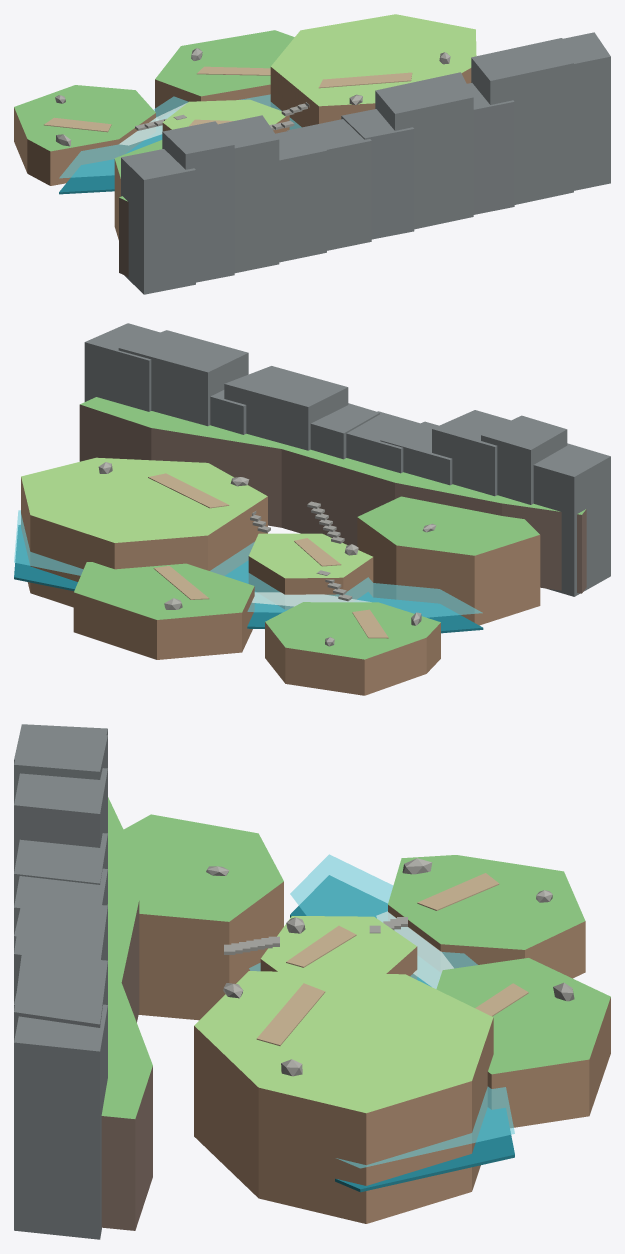
Rendered from redlance_pondside_blender_level_base.glb.
3 renders of one model, top to bottom at view 1: azimuth 30°, elevation 25°; view 2: azimuth 150°, elevation 25°; view 3: azimuth 270°, elevation 25°, orthographic. The views are drawn at different scales.
Visible parts, largest first — view 1: Land_East_Upper_Bank, Back_Cliff_Rock_9, Back_Cliff_Rock_7, Back_Cliff_Rock_1, Land_Start_Lower_Bank, Back_Cliff_Rock_2, Back_Cliff_Rock_3, Land_South_Pond_Island, Back_Cliff_Rock_4, Back_Cliff_Rock_10, Back_Cliff_Rock_5, Back_Cliff_Rock_6 (+10 smaller); view 2: Land_East_Upper_Bank, Land_Back_Ridge_Shelf, Land_Northwest_High_Bank, Land_South_Pond_Island, Land_Start_Lower_Bank, Back_Cliff_Rock_1, Back_Cliff_Rock_9, Back_Cliff_Rock_7, Land_Center_Raised_Step, Pond_Water_Main_Transparent, Back_Cliff_Rock_10, Back_Cliff_Rock_2 (+11 smaller); view 3: Land_East_Upper_Bank, Land_Northwest_High_Bank, Back_Cliff_Rock_10, Land_South_Pond_Island, Land_Start_Lower_Bank, Land_Back_Ridge_Shelf, Pond_Water_Main_Transparent, Back_Cliff_Rock_3, Land_Center_Raised_Step, Back_Cliff_Rock_9, Pond_Bed_Deep, Back_Cliff_Rock_7 (+9 smaller).
Part boxes in pixels (<box>): Land_East_Upper_Bank: <box>270,14,476,129</box>; Back_Cliff_Rock_9: <box>471,38,573,204</box>; Back_Cliff_Rock_7: <box>375,72,473,229</box>; Back_Cliff_Rock_1: <box>121,149,195,294</box>; Land_Start_Lower_Bank: <box>14,85,155,185</box>; Back_Cliff_Rock_2: <box>162,121,234,282</box>; Back_Cliff_Rock_3: <box>218,115,279,273</box>; Land_South_Pond_Island: <box>155,30,294,117</box>; Back_Cliff_Rock_4: <box>275,126,326,262</box>; Back_Cliff_Rock_10: <box>562,32,610,190</box>; Back_Cliff_Rock_5: <box>287,119,371,250</box>; Back_Cliff_Rock_6: <box>341,109,414,239</box>; Land_East_Upper_Bank: <box>21,457,267,607</box>; Land_Back_Ridge_Shelf: <box>79,397,586,593</box>; Land_Northwest_High_Bank: <box>357,496,540,625</box>; Land_South_Pond_Island: <box>73,562,254,659</box>; Land_Start_Lower_Bank: <box>265,602,440,695</box>; Back_Cliff_Rock_1: <box>533,443,610,596</box>; Back_Cliff_Rock_9: <box>118,330,248,426</box>; Back_Cliff_Rock_7: <box>224,366,348,450</box>; Land_Center_Raised_Step: <box>248,533,373,609</box>; Pond_Water_Main_Transparent: <box>14,510,482,617</box>; Back_Cliff_Rock_10: <box>84,323,159,411</box>; Back_Cliff_Rock_2: <box>481,415,567,504</box>; Land_East_Upper_Bank: <box>194,971,493,1223</box>; Land_Northwest_High_Bank: <box>123,814,283,1020</box>; Back_Cliff_Rock_10: <box>14,1004,107,1239</box>; Land_South_Pond_Island: <box>436,958,610,1127</box>; Land_Start_Lower_Bank: <box>388,855,585,978</box>; Land_Back_Ridge_Shelf: <box>101,797,152,1230</box>; Pond_Water_Main_Transparent: <box>249,854,514,1168</box>; Back_Cliff_Rock_3: <box>14,768,107,872</box>; Land_Center_Raised_Step: <box>260,916,417,979</box>; Back_Cliff_Rock_9: <box>14,953,107,1041</box>; Pond_Bed_Deep: <box>290,875,514,1192</box>; Back_Cliff_Rock_7: <box>14,899,107,1003</box>.
Bounding box in the file's own units: 41.75 × 11.2 × 30.5.
